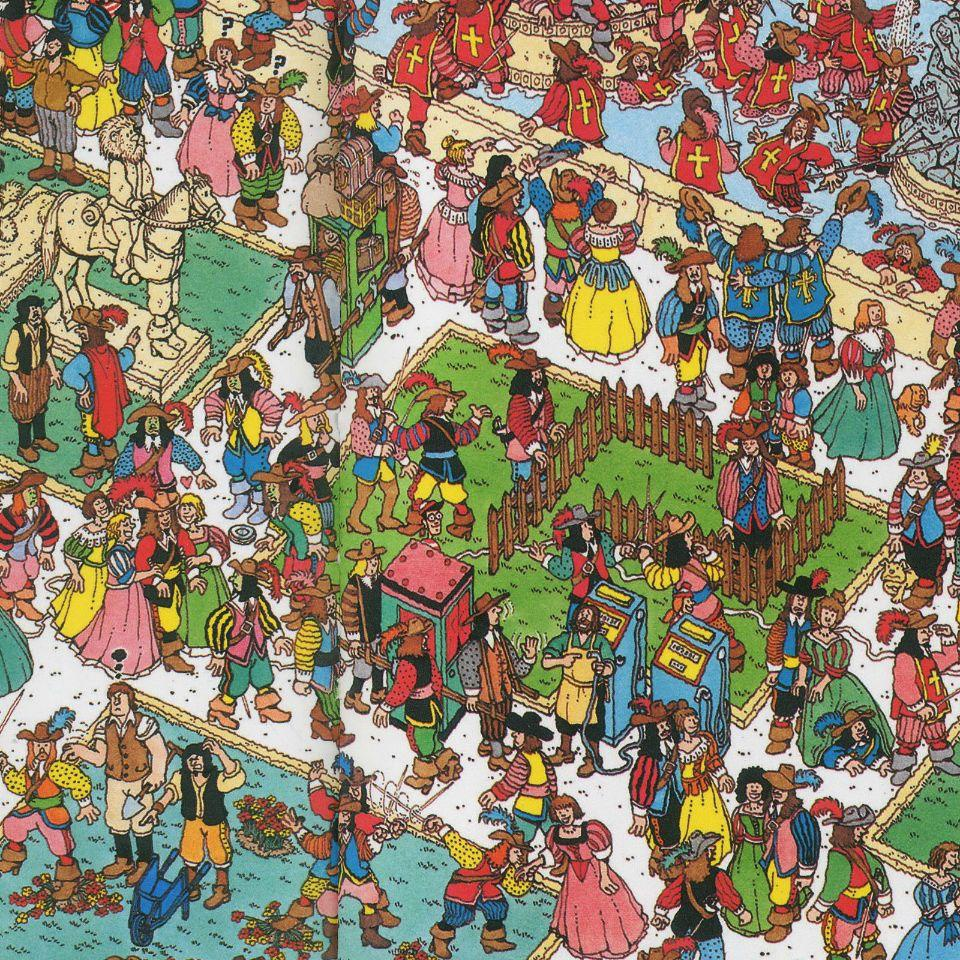waldo: (412, 498, 450, 541)
